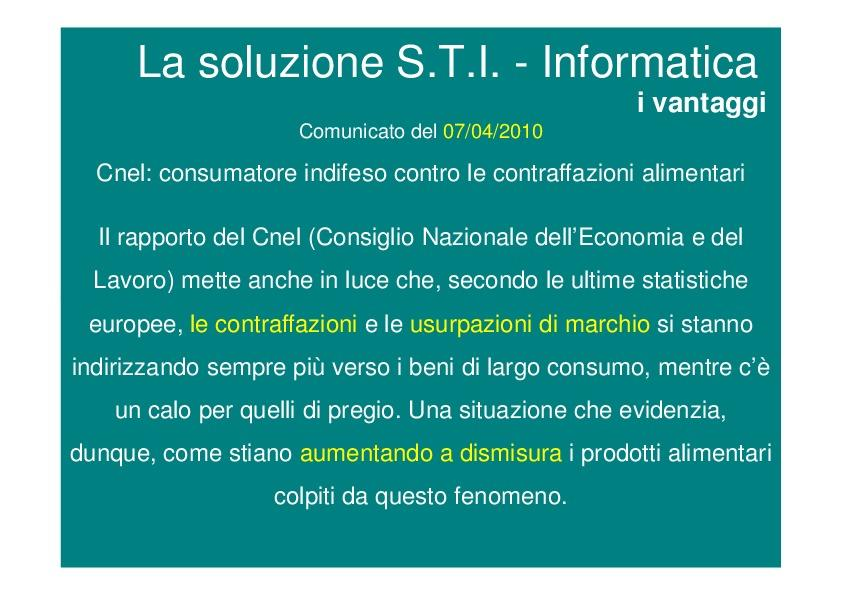paragraph: (64, 149, 782, 534)
title: (126, 26, 774, 119)
